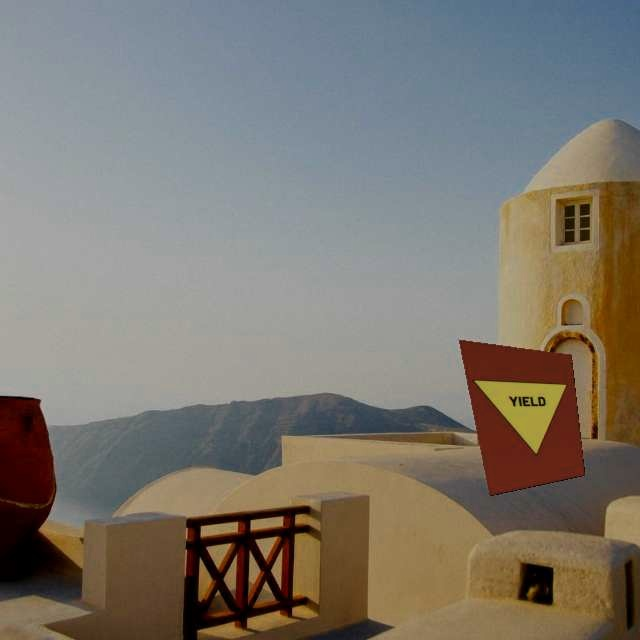YIELD: (472, 374, 576, 462)
